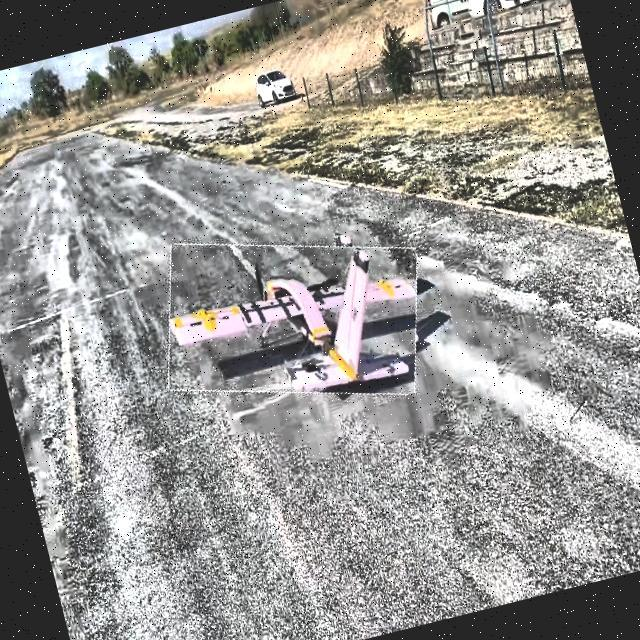iha: (155, 232, 445, 438)
